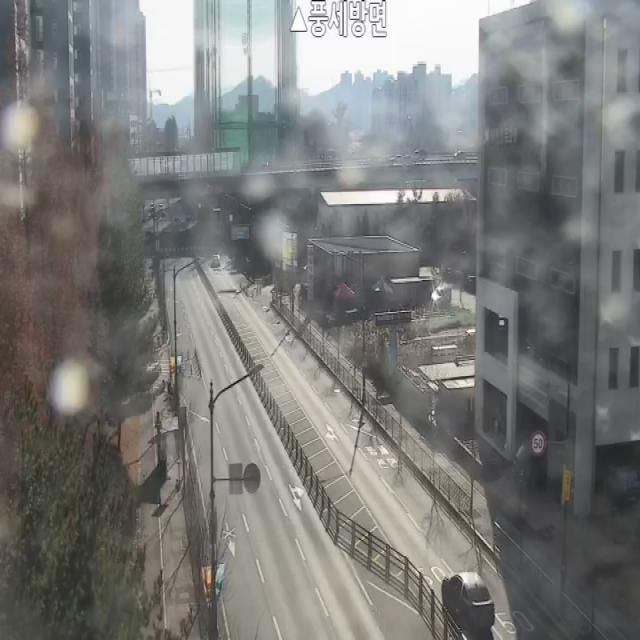Car: (441, 572, 495, 632), (430, 284, 452, 304)
